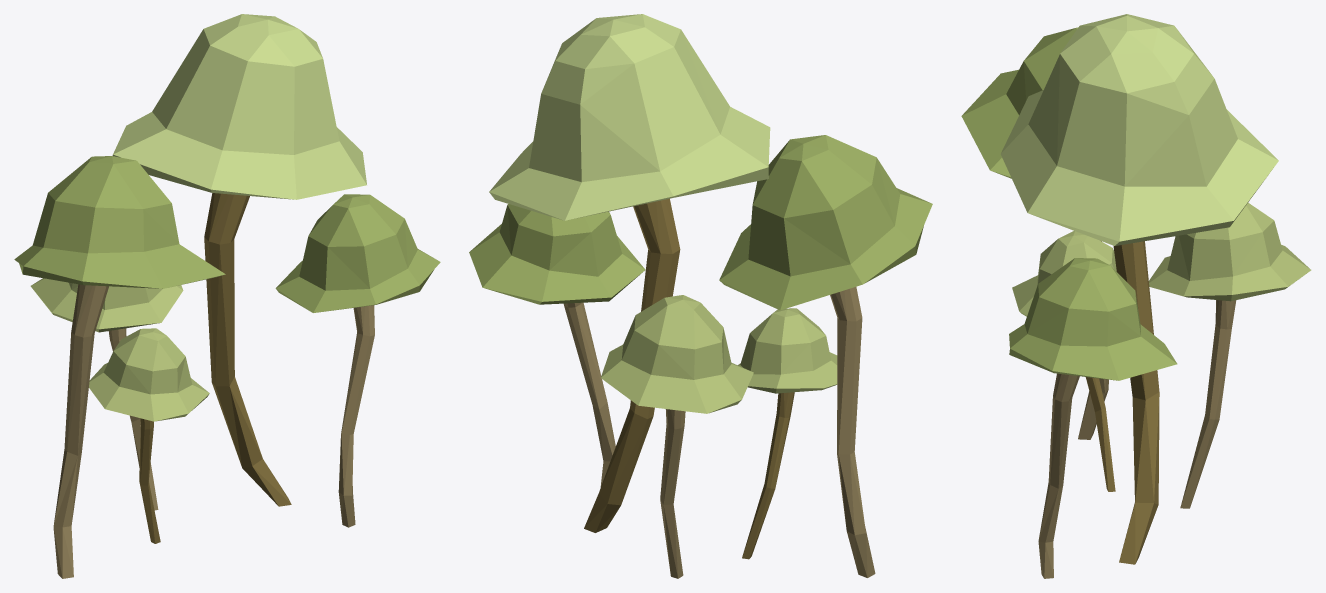
File: SM_Mushroom_08.glb
3 renders of one model, left to right at view 1: azimuth 30°, elevation 25°; view 2: azimuth 150°, elevation 25°; view 3: azimuth 270°, elevation 25°, orthographic. The views are drawn at different scales.
Parts seen in each view (by area): view 1: SM_Mushroom_08; view 2: SM_Mushroom_08; view 3: SM_Mushroom_08.
Boxes of the visible parts, box(x1,y1,x2,y2) form: SM_Mushroom_08: box(14, 14, 440, 578); SM_Mushroom_08: box(469, 14, 932, 578); SM_Mushroom_08: box(961, 14, 1311, 578).
Bounding box in the file's own units: 0.1509 × 0.1729 × 0.1051.
Materials: 1 (1 with a texture image).
